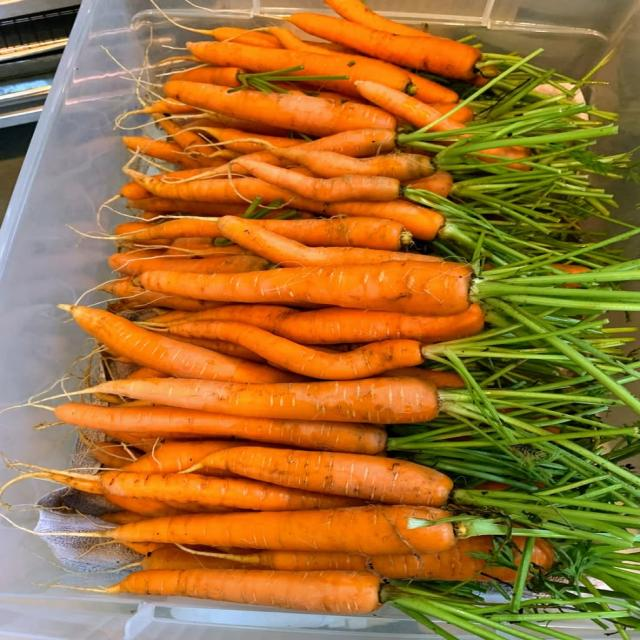carrot: (79, 505, 456, 555), (140, 261, 473, 315), (60, 305, 292, 381), (141, 536, 516, 582), (56, 403, 386, 454), (87, 377, 439, 424), (187, 42, 458, 102), (187, 446, 453, 506), (168, 321, 423, 380), (31, 470, 363, 512), (286, 12, 481, 80), (93, 569, 381, 615), (164, 81, 396, 136), (189, 304, 484, 345), (187, 42, 413, 94), (218, 217, 440, 266), (126, 169, 313, 212), (233, 158, 401, 202), (355, 81, 468, 137), (305, 199, 446, 241), (271, 147, 435, 182), (253, 216, 411, 251), (355, 81, 463, 131), (121, 440, 263, 473), (153, 304, 301, 332), (108, 250, 271, 275), (97, 276, 212, 311), (324, 0, 430, 37), (154, 115, 228, 167), (127, 190, 247, 216), (140, 545, 261, 569), (300, 128, 395, 157), (202, 128, 304, 154), (173, 335, 266, 363), (122, 136, 201, 168), (104, 494, 183, 521), (80, 434, 139, 468), (261, 27, 333, 54), (165, 237, 247, 258), (385, 367, 466, 388), (169, 65, 245, 87), (209, 27, 281, 48), (404, 171, 453, 197), (132, 99, 199, 115), (430, 102, 474, 123), (120, 543, 169, 556), (126, 366, 170, 379), (100, 511, 144, 524), (120, 181, 151, 199)
